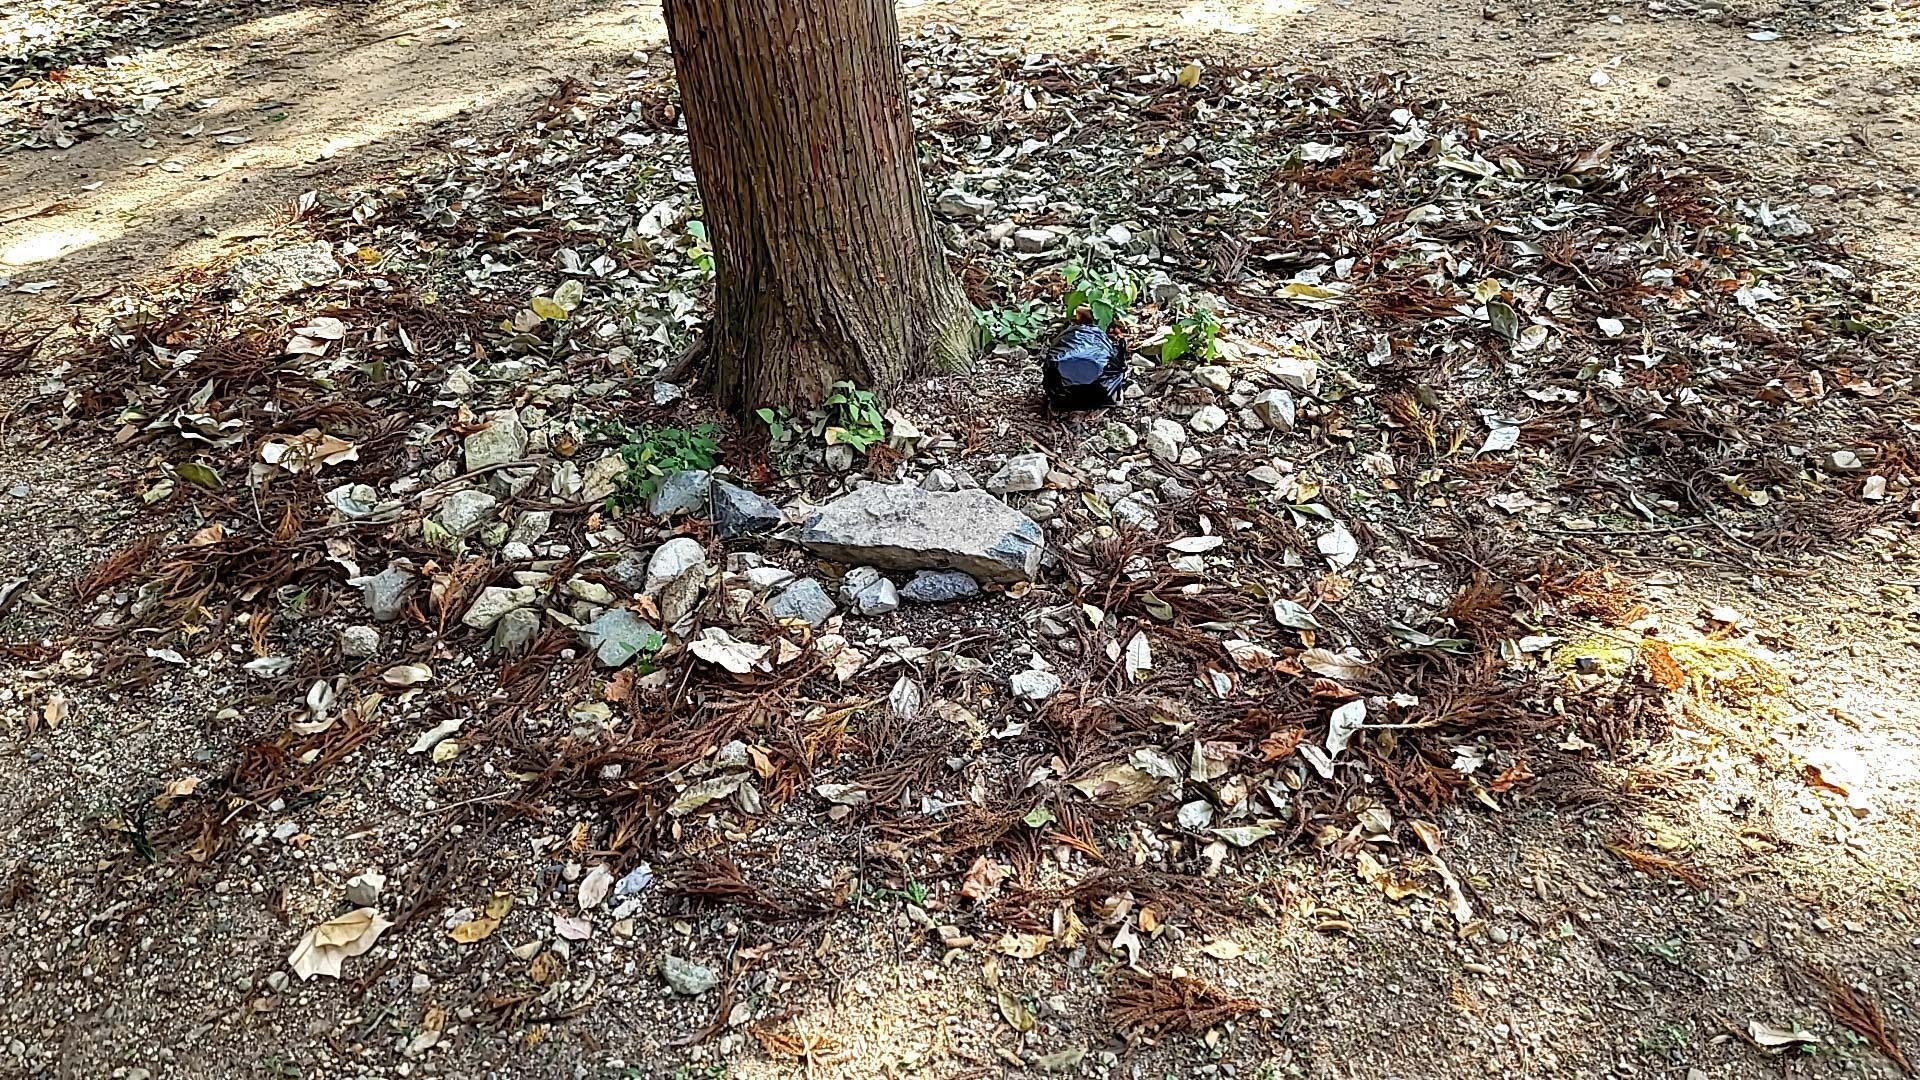black_bag: (1030, 309, 1145, 414)
